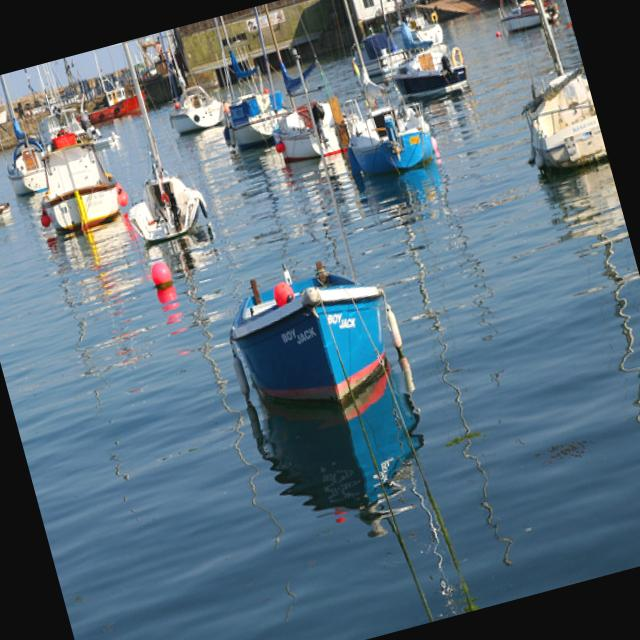Vehicle: (399, 0, 428, 7), (416, 0, 444, 6)
